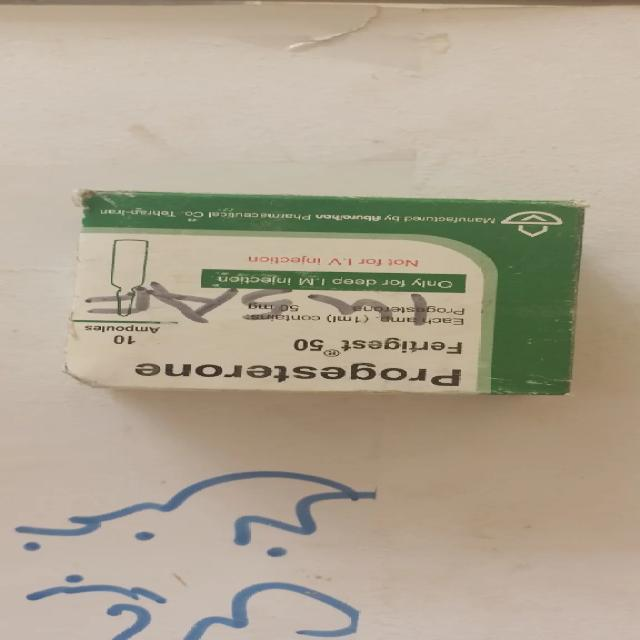drug-name: (292, 333, 465, 360)
